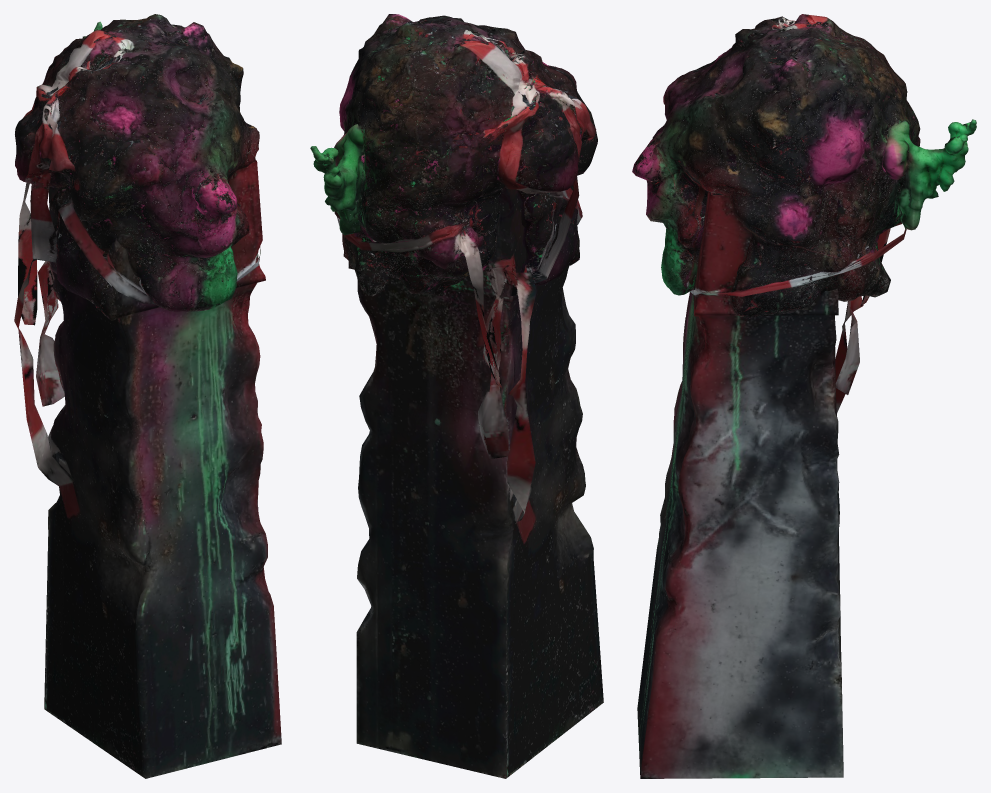
Rendered from Statue1_retopo_merged.glb.
3 views of the same model, side by side, from view 1: azimuth 30°, elevation 25°; view 2: azimuth 150°, elevation 25°; view 3: azimuth 270°, elevation 25° (orthographic). The views are drawn at different scales.
Parts seen in each view (by area): view 1: Icosphere.001; view 2: Icosphere.001; view 3: Icosphere.001.
Part boxes in pixels (x1=…): Icosphere.001: x1=14, y1=14, x2=281, y2=778; Icosphere.001: x1=310, y1=14, x2=603, y2=778; Icosphere.001: x1=632, y1=14, x2=976, y2=778.
Size of the model in its own units: 0.6752 by 1.99 by 0.8701.
1 material, 1 textured.
